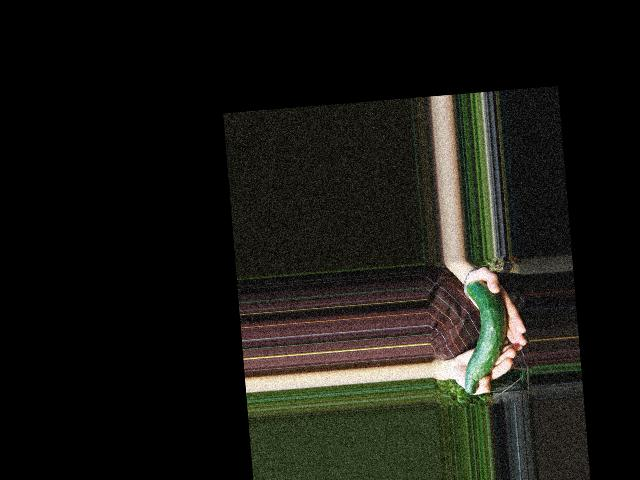cucumber: (456, 277, 512, 394)
